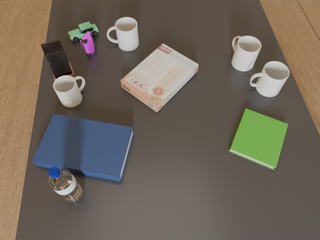book: (32, 114, 134, 182), (229, 109, 288, 170)
bottle: (49, 167, 83, 203)
box: (121, 44, 198, 112)
cup: (250, 61, 289, 97), (107, 17, 139, 51), (232, 36, 261, 71), (53, 76, 85, 107)
phone: (41, 40, 72, 78)
toy_car: (68, 22, 98, 42), (80, 31, 97, 57)
